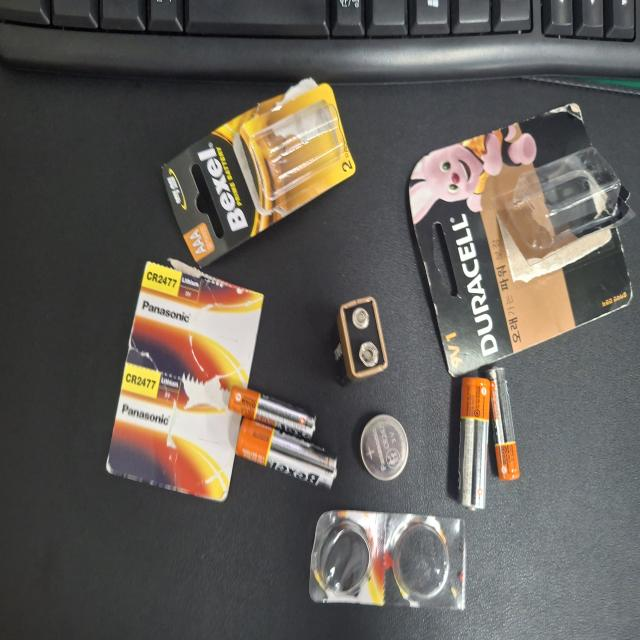9V: (222, 336, 289, 412)
AA: (313, 404, 366, 538), (283, 200, 383, 242)
AAA: (290, 432, 329, 550), (276, 160, 360, 204)
COIN: (311, 310, 360, 372)
